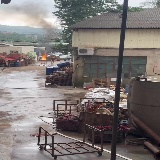fire: (42, 54, 47, 60)
